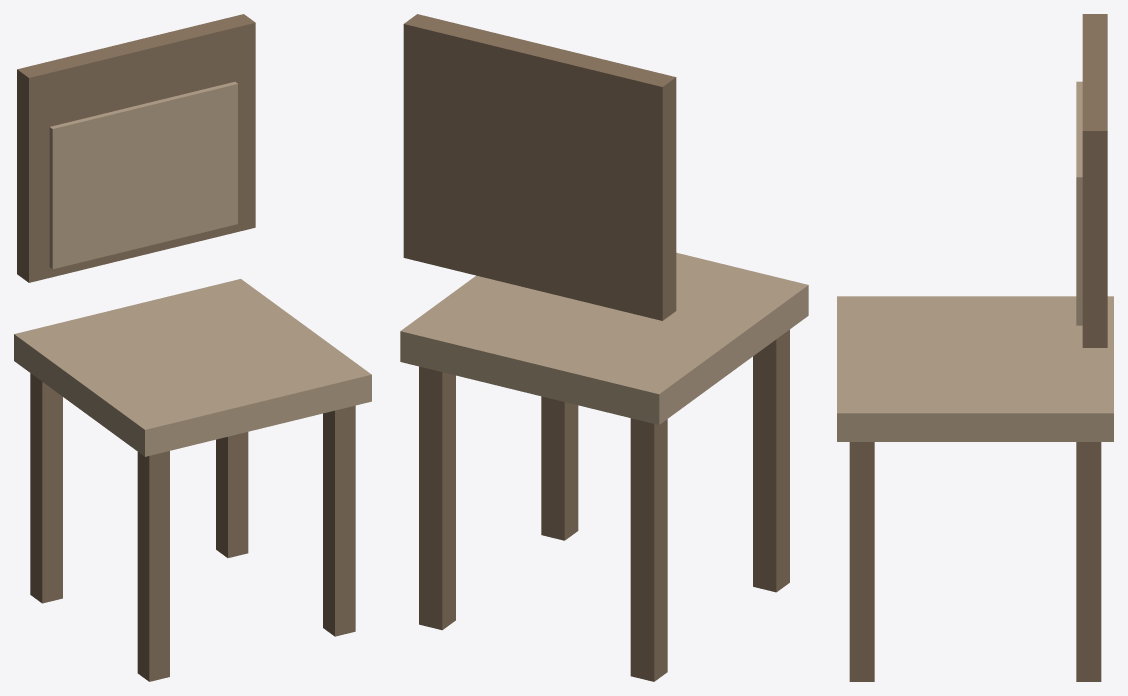
The model's file is chairCushion.glb.
3 views of the same model, side by side, from view 1: azimuth 30°, elevation 25°; view 2: azimuth 150°, elevation 25°; view 3: azimuth 270°, elevation 25° (orthographic). The views are drawn at different scales.
Size of the model in its own units: 0.44 by 0.975 by 0.44.
